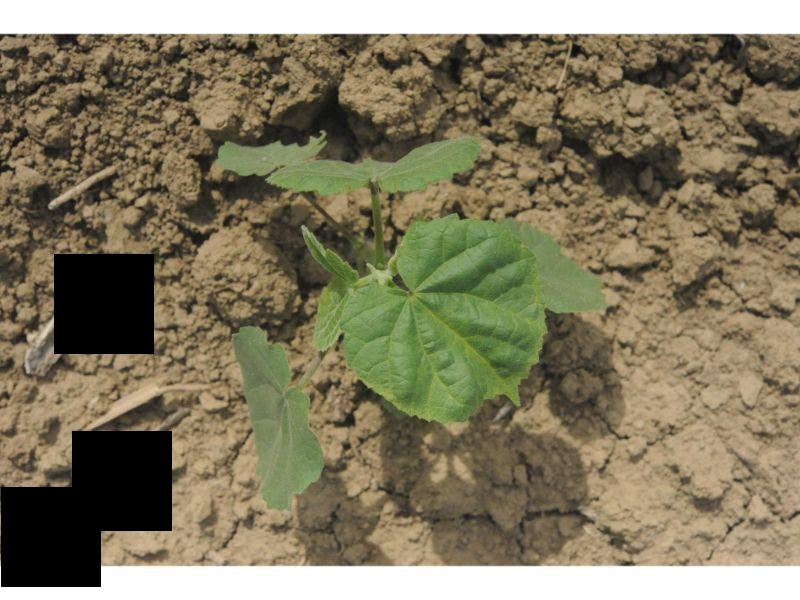velvet: (216, 135, 608, 509)
